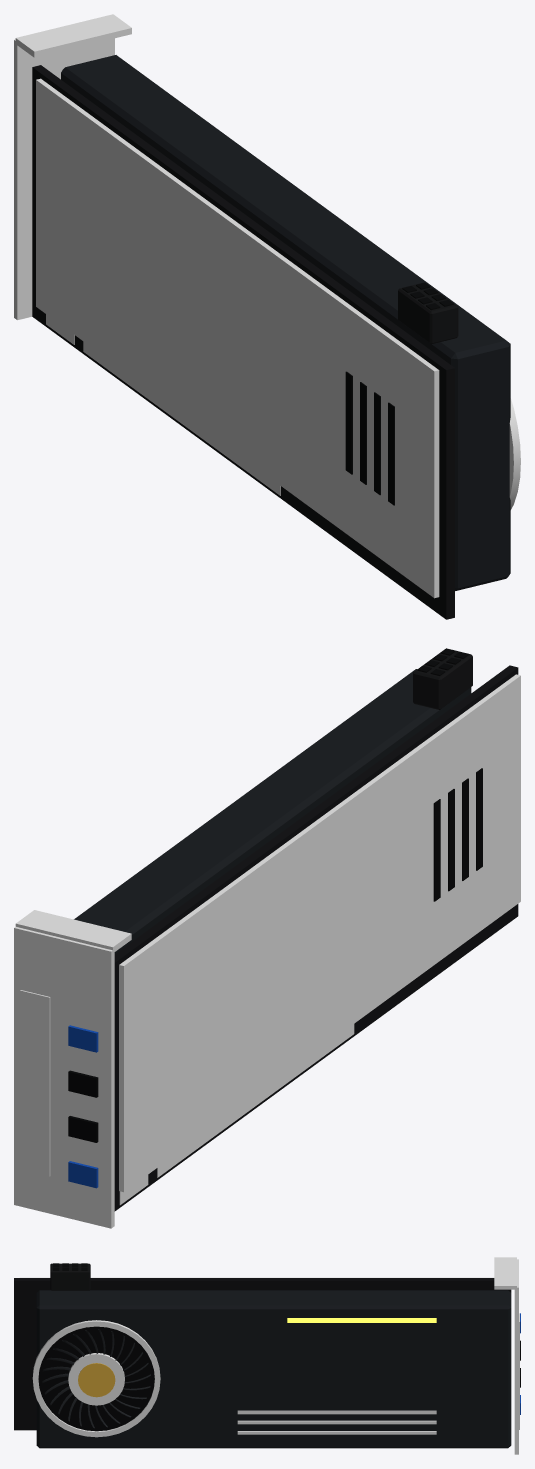
The model's file is hw_gpu_rtx_a4000.glb.
3 views of the same model, one above another, from view 1: azimuth 30°, elevation 25°; view 2: azimuth 150°, elevation 25°; view 3: azimuth 270°, elevation 25° (orthographic). The views are drawn at different scales.
Parts seen in each view (by area): view 1: Body; view 2: Body; view 3: Body, Rotor_X_0.
Part boxes in pixels (<box>): Body: <box>14,14,520,619</box>; Body: <box>14,648,520,1228</box>; Body: <box>14,1257,520,1454</box>; Rotor_X_0: <box>42,1329,150,1428</box>.
Size of the model in its own units: 0.0389 by 0.1006 by 0.2698.
